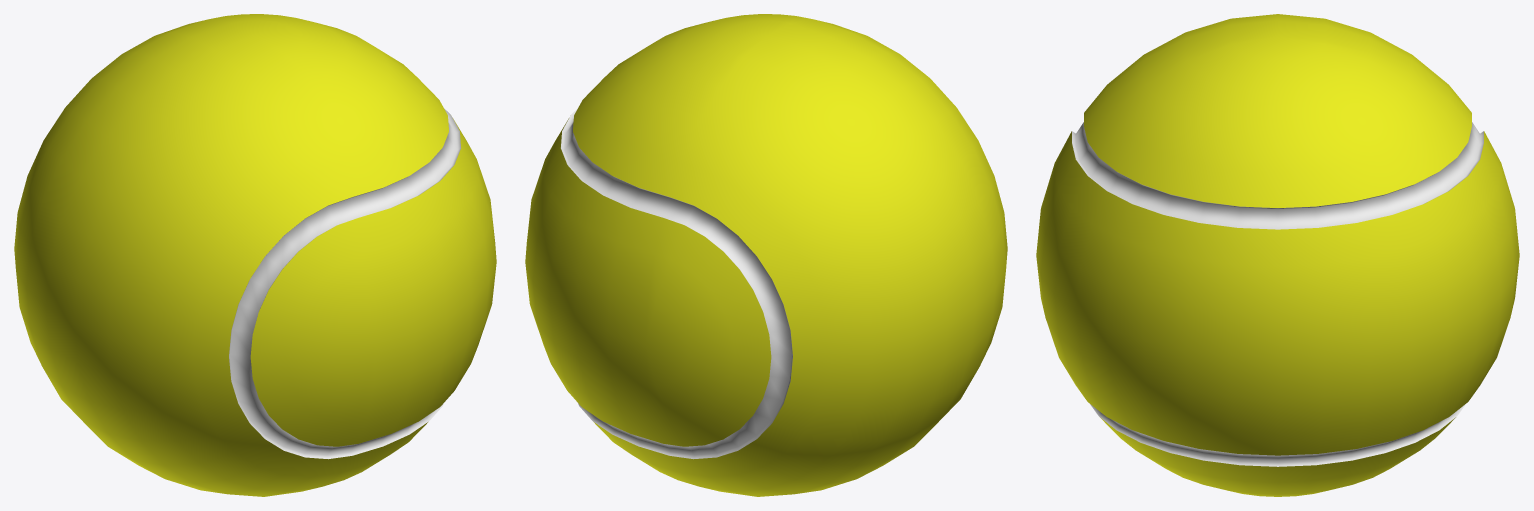
The model's file is tennisball.glb.
3 views of the same model, side by side, from view 1: azimuth 30°, elevation 25°; view 2: azimuth 150°, elevation 25°; view 3: azimuth 270°, elevation 25° (orthographic).
Visible parts, largest first — view 1: Sphere.001, Sphere; view 2: Sphere.001, Sphere; view 3: Sphere.001, Sphere.
Part boxes in pixels (x1,y1,x2,y2): Sphere.001: [14, 14, 496, 496]; Sphere: [229, 108, 460, 459]; Sphere.001: [525, 14, 1007, 496]; Sphere: [561, 108, 792, 459]; Sphere.001: [1036, 14, 1519, 496]; Sphere: [1072, 122, 1483, 466].
Size of the model in its own units: 2 by 2 by 2.
